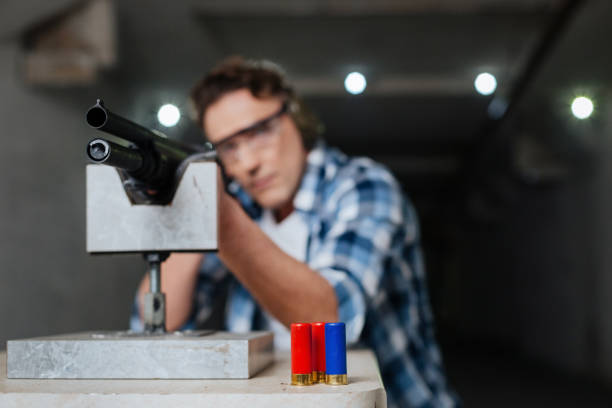gun: (85, 100, 208, 207)
